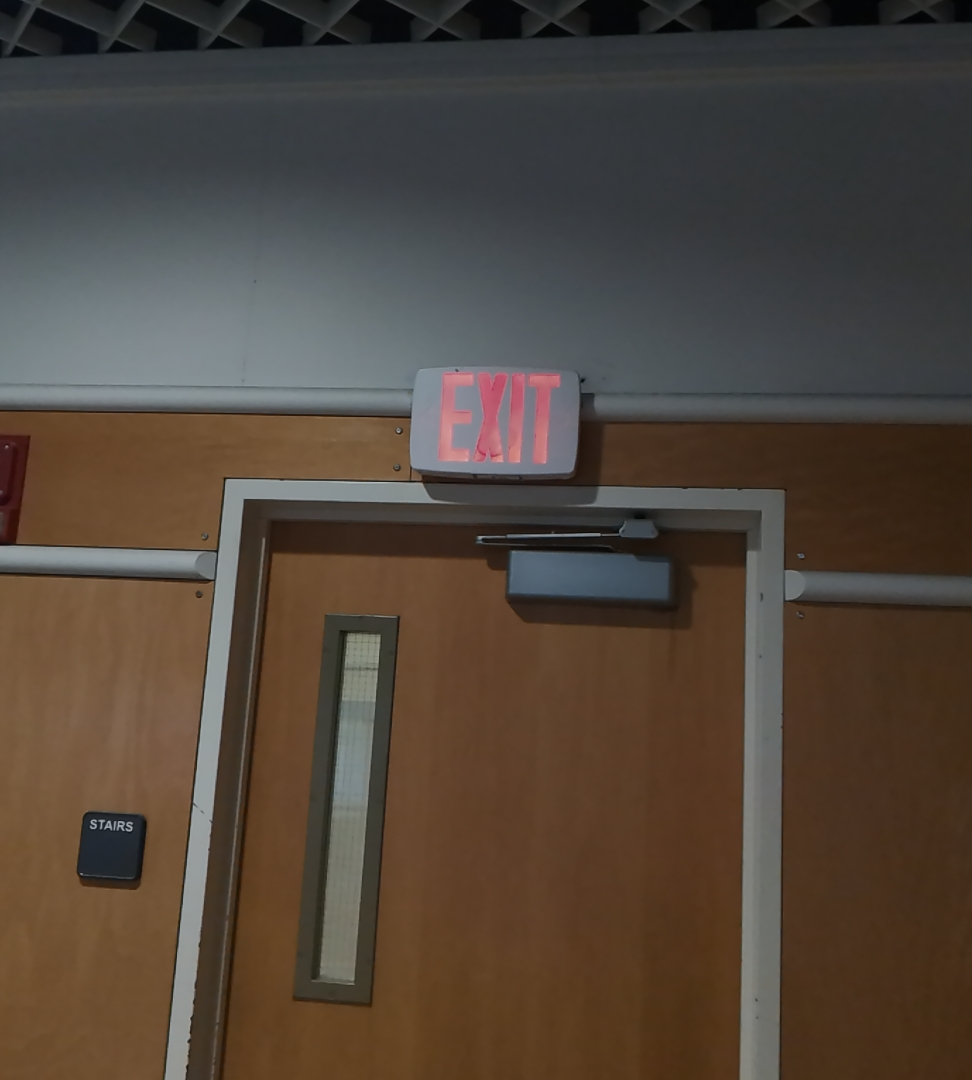emergency_exit: (407, 362, 583, 482)
